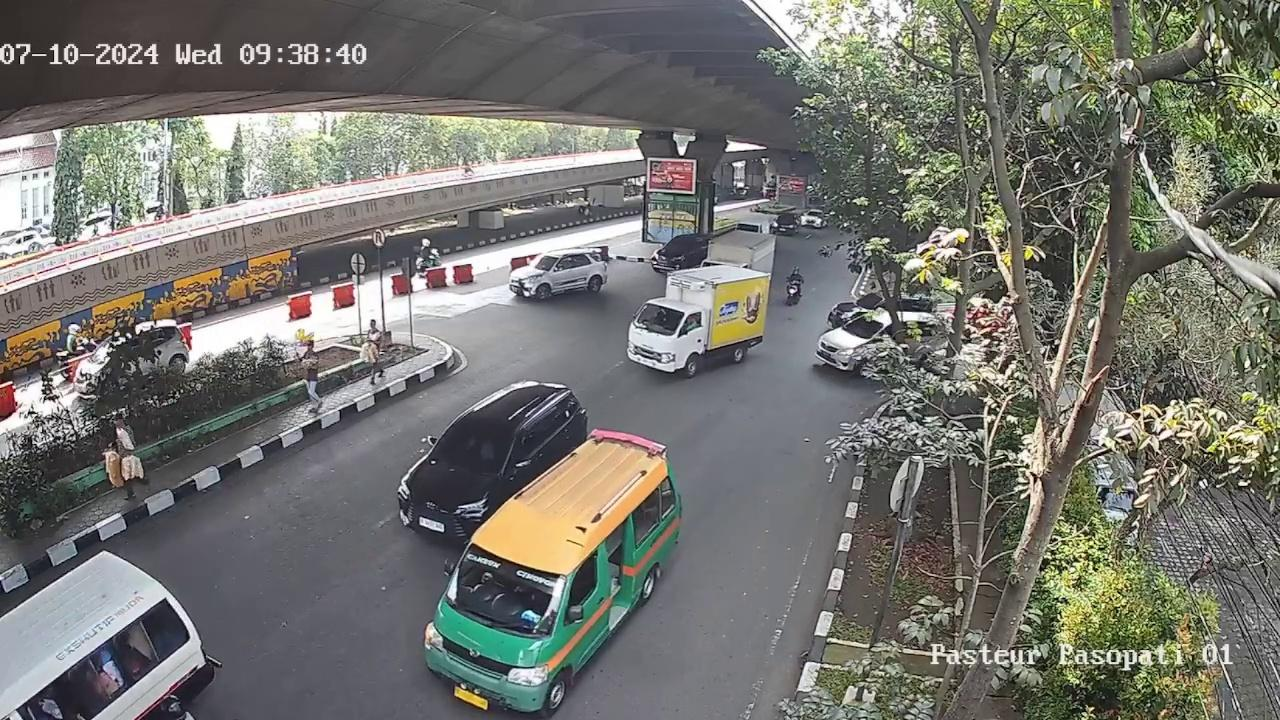tidak-pakai: (463, 431, 495, 462)
windshield: (445, 542, 565, 633), (433, 416, 514, 470), (633, 304, 684, 334)
